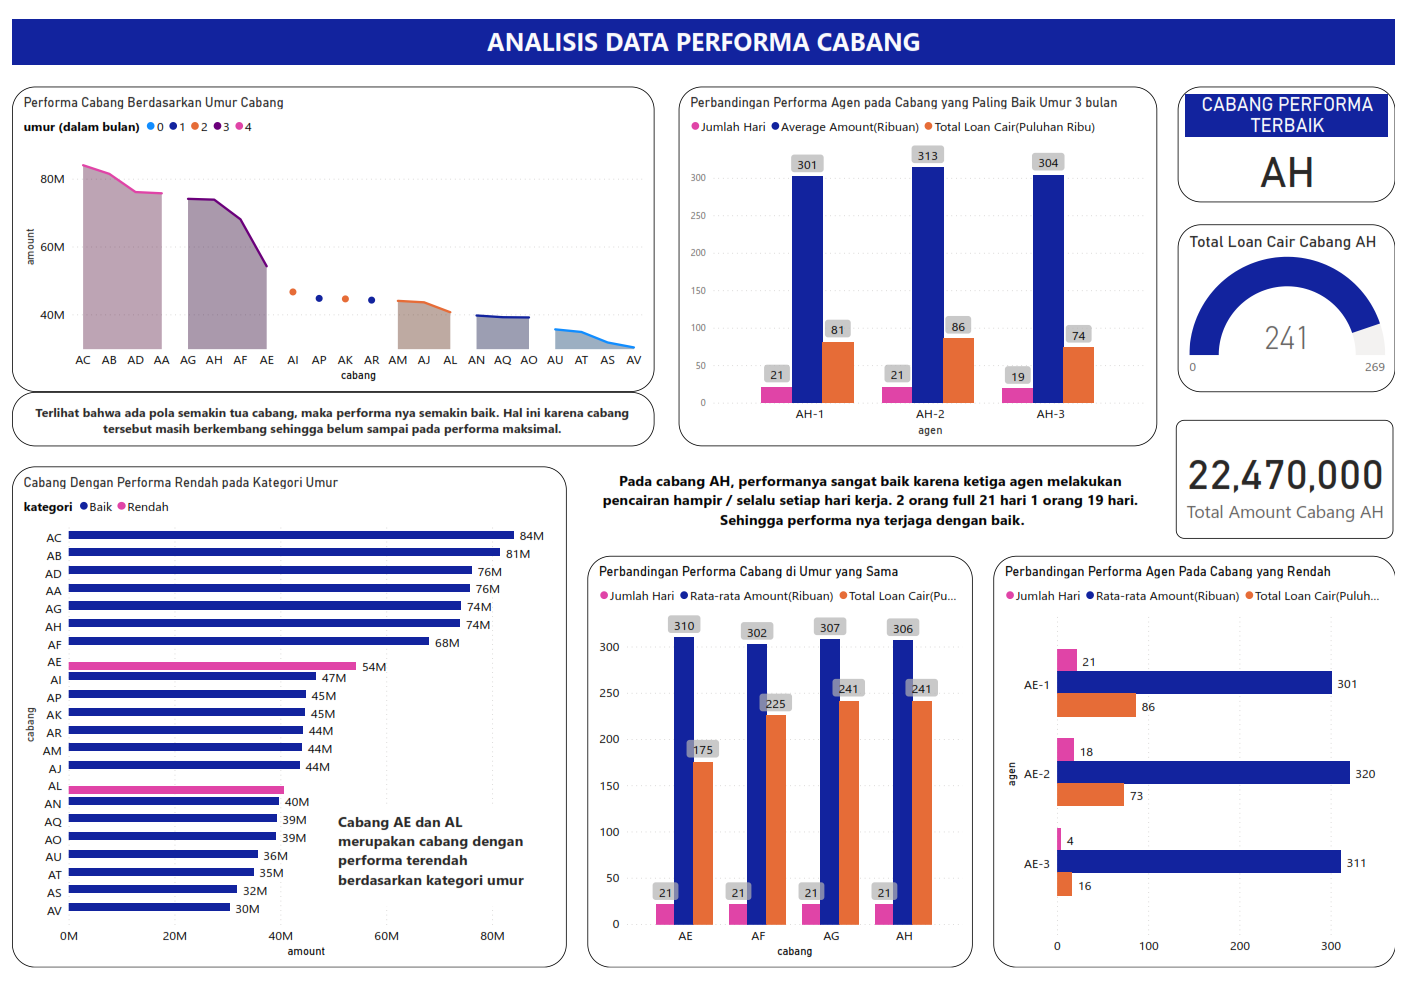

The dashboard page shown, as its layout file describes it:
{"tool":"powerbi","page":{"name":"Page 1","canvas":[1780,1220],"ordinal":0},"visuals":[{"type":"areaChart","title":"Performa Cabang Berdasarkan Umur Cabang","fields":{"Category":["df_loan_amount.cabang"],"Y":["Sum(df_loan_amount.amount)"],"Series":["df_loan_amount.umur"]},"box":[0,86.3,826.9,393.1],"z":0},{"type":"clusteredBarChart","title":"Cabang Dengan Performa Rendah pada Kategori Umur","fields":{"Y":["Sum(df_loan_flag.amount)"],"Series":["df_loan_flag.flag"],"Category":["df_loan_flag.cabang"]},"box":[0,575.2,714.3,644.8],"z":1000},{"type":"lineClusteredColumnComboChart","title":"Perbandingan Performa Agen pada Cabang yang Paling Baik Umur 3 bulan","fields":{"Category":["Lihat perbadingan performa agen pada cabang yang paling baik umur 3 bulan.agen"],"Y":["Sum(Lihat perbadingan performa agen pada cabang yang paling baik umur 3 bulan.jumlah_hari)","Avg(Lihat perbadingan performa agen pada cabang yang paling baik umur 3 bulan.avg_amount)","Sum(Lihat perbadingan performa agen pada cabang yang paling baik umur 3 bulan.total_loan_cair)"]},"box":[858.1,86.3,616,462.6],"z":2000},{"type":"clusteredBarChart","title":"Perbandingan Performa Agen Pada Cabang yang Rendah","fields":{"Y":["Sum(Lihat perbadingan performa agen pada cabang yang rendah.jumlah_hari)","Sum(Lihat perbadingan performa agen pada cabang yang rendah.avg_amount)","Sum(Lihat perbadingan performa agen pada cabang yang rendah.total_loan_cair)"],"Category":["Lihat perbadingan performa agen pada cabang yang rendah.agen"]},"box":[1263.1,690.3,517.7,529.7],"z":3000},{"type":"lineClusteredColumnComboChart","title":"Perbandingan Performa Cabang di Umur yang Sama","fields":{"Category":["Lihat perbadingan performa cabang di umur yang sama.cabang"],"Y":["Sum(Lihat perbadingan performa cabang di umur yang sama.jumlah_hari)","Sum(Lihat perbadingan performa cabang di umur yang sama.avg_amount)","Sum(Lihat perbadingan performa cabang di umur yang sama.total_loan_cair)"]},"box":[740.6,690.3,496.1,529.7],"z":4000},{"type":"textbox","box":[0,479.4,826.9,69.5],"z":5000},{"type":"textbox","box":[0,0,1780.9,57.5],"z":6000},{"type":"card","title":"CABANG PERFORMA TERBAIK","fields":{"Values":["Min(Lihat perbadingan performa agen pada cabang yang paling baik umur 3 bulan.cabang)"]},"box":[1500.4,86.3,280.4,148.6],"z":7000},{"type":"gauge","title":"Total Loan Cair Cabang AH","fields":{"Y":["Sum(Lihat perbadingan performa agen pada cabang yang paling baik umur 3 bulan.total_loan_cair)"]},"box":[1500.4,263.7,280.4,215.7],"z":8000},{"type":"card","fields":{"Values":["Min(Lihat perbadingan performa agen pada cabang yang paling baik umur 3 bulan.total_amount)"]},"box":[1498,515.3,280.4,153.4],"z":9000},{"type":"textbox","box":[740.6,575.2,733.4,93.5],"z":10000},{"type":"textbox","box":[414.7,1013.9,256.5,127],"z":11000},{"type":"pythonVisual","fields":{"Values":["LOAN_FLAG.cabang","Sum(LOAN_FLAG.amount)","LOAN_FLAG.flag","LOAN_FLAG.tanggal_cair.Variation.Date Hierarchy.Day"]},"box":[357.1,472.2,702.3,606.4],"z":11001}]}

Visuals, with their boxes in screenshot pixels (x1, y1, x2, y2), scaled from the page's 1780x1220 canvas onto the 1407x987 screenshot:
"Performa Cabang Berdasarkan Umur Cabang" areaChart: {"left": 0, "top": 70, "right": 654, "bottom": 388}
"Cabang Dengan Performa Rendah pada Kategori Umur" clusteredBarChart: {"left": 0, "top": 465, "right": 565, "bottom": 986}
"Perbandingan Performa Agen pada Cabang yang Paling Baik Umur 3 bulan" lineClusteredColumnComboChart: {"left": 678, "top": 70, "right": 1165, "bottom": 444}
"Perbandingan Performa Agen Pada Cabang yang Rendah" clusteredBarChart: {"left": 998, "top": 558, "right": 1406, "bottom": 986}
"Perbandingan Performa Cabang di Umur yang Sama" lineClusteredColumnComboChart: {"left": 585, "top": 558, "right": 978, "bottom": 986}
textbox: {"left": 0, "top": 388, "right": 654, "bottom": 444}
textbox: {"left": 0, "top": 0, "right": 1406, "bottom": 47}
"CABANG PERFORMA TERBAIK" card: {"left": 1186, "top": 70, "right": 1406, "bottom": 190}
"Total Loan Cair Cabang AH" gauge: {"left": 1186, "top": 213, "right": 1406, "bottom": 388}
card - Min(Lihat perbadingan performa agen pada cabang yang paling baik umur 3 bulan.total_amount): {"left": 1184, "top": 417, "right": 1406, "bottom": 541}
textbox: {"left": 585, "top": 465, "right": 1165, "bottom": 541}
textbox: {"left": 328, "top": 820, "right": 531, "bottom": 923}
pythonVisual - LOAN_FLAG.cabang x Sum(LOAN_FLAG.amount): {"left": 282, "top": 382, "right": 837, "bottom": 873}
